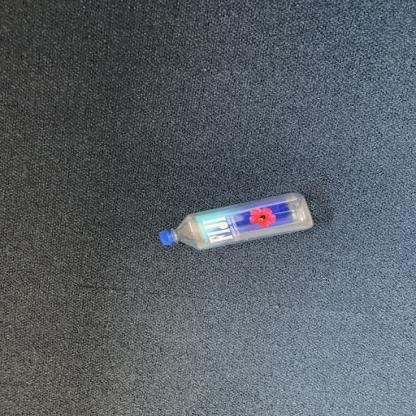trash: (154, 190, 317, 255)
